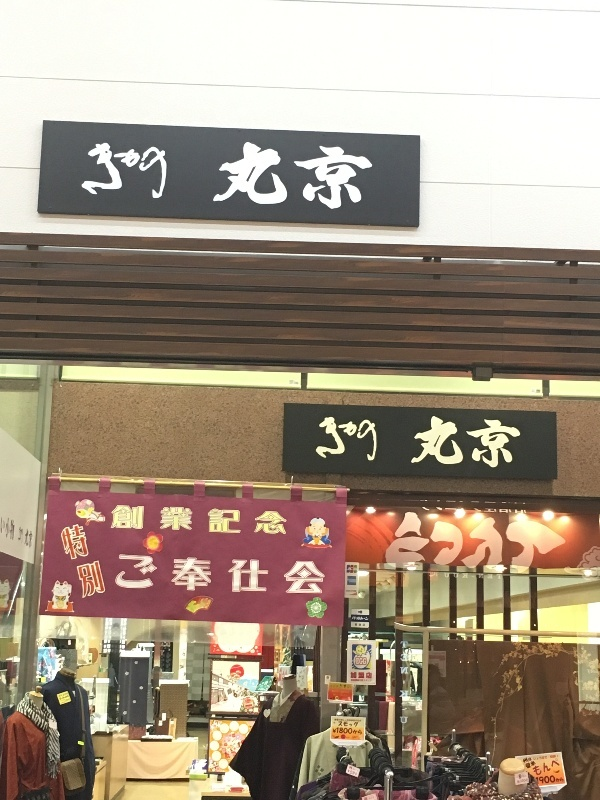text: (401, 640, 416, 724), (65, 522, 80, 599), (81, 522, 96, 599), (225, 142, 240, 213), (241, 142, 256, 213), (257, 142, 272, 213), (273, 142, 288, 213), (289, 142, 304, 213), (305, 142, 320, 213), (321, 142, 336, 213), (337, 142, 352, 213), (353, 142, 368, 213), (401, 514, 416, 575), (417, 514, 432, 575), (433, 514, 448, 575), (449, 514, 464, 575), (465, 514, 480, 575), (481, 514, 496, 575), (497, 514, 512, 575), (513, 514, 528, 575), (529, 514, 544, 575), (545, 514, 560, 575), (97, 143, 112, 201), (113, 143, 128, 201), (129, 143, 144, 201), (145, 143, 160, 201), (433, 416, 448, 470), (449, 416, 464, 470), (465, 416, 480, 470), (481, 416, 496, 470), (497, 416, 512, 470), (387, 514, 400, 575), (97, 522, 107, 599), (321, 412, 336, 461), (337, 412, 352, 461), (353, 412, 368, 461), (419, 416, 432, 470), (129, 552, 144, 597), (145, 552, 160, 597), (161, 552, 176, 597), (177, 552, 192, 597), (193, 552, 208, 597), (209, 552, 224, 597), (225, 552, 240, 597), (241, 552, 256, 597), (257, 552, 272, 597), (273, 552, 288, 597), (289, 552, 304, 597), (305, 552, 320, 597), (113, 503, 128, 539), (129, 503, 144, 539), (145, 503, 160, 539), (161, 503, 176, 539), (177, 503, 192, 539), (193, 503, 208, 539), (209, 503, 224, 539), (225, 503, 240, 539), (241, 503, 256, 539), (257, 503, 272, 539), (1, 513, 16, 549), (17, 513, 32, 549), (87, 143, 96, 201), (273, 503, 287, 539), (561, 514, 569, 575), (513, 416, 521, 470), (369, 142, 375, 213), (161, 143, 168, 201), (119, 552, 128, 597), (369, 412, 377, 461), (59, 522, 64, 599), (545, 758, 560, 777), (532, 758, 544, 777), (321, 552, 326, 597), (545, 775, 560, 785), (337, 727, 352, 735), (356, 657, 368, 666), (353, 672, 368, 679), (545, 754, 559, 761), (529, 756, 536, 770), (522, 756, 528, 770), (353, 727, 363, 735), (536, 775, 544, 785), (339, 721, 352, 727), (533, 754, 544, 761), (353, 617, 369, 621), (518, 778, 528, 784), (66, 698, 80, 702), (355, 623, 368, 627), (353, 769, 358, 777), (33, 513, 34, 549), (353, 721, 359, 727), (519, 775, 528, 779), (59, 692, 64, 698), (561, 775, 564, 785), (60, 695, 64, 701), (65, 695, 69, 701), (333, 727, 336, 735), (349, 769, 352, 777), (369, 672, 372, 679), (65, 692, 68, 698), (351, 672, 352, 679)
